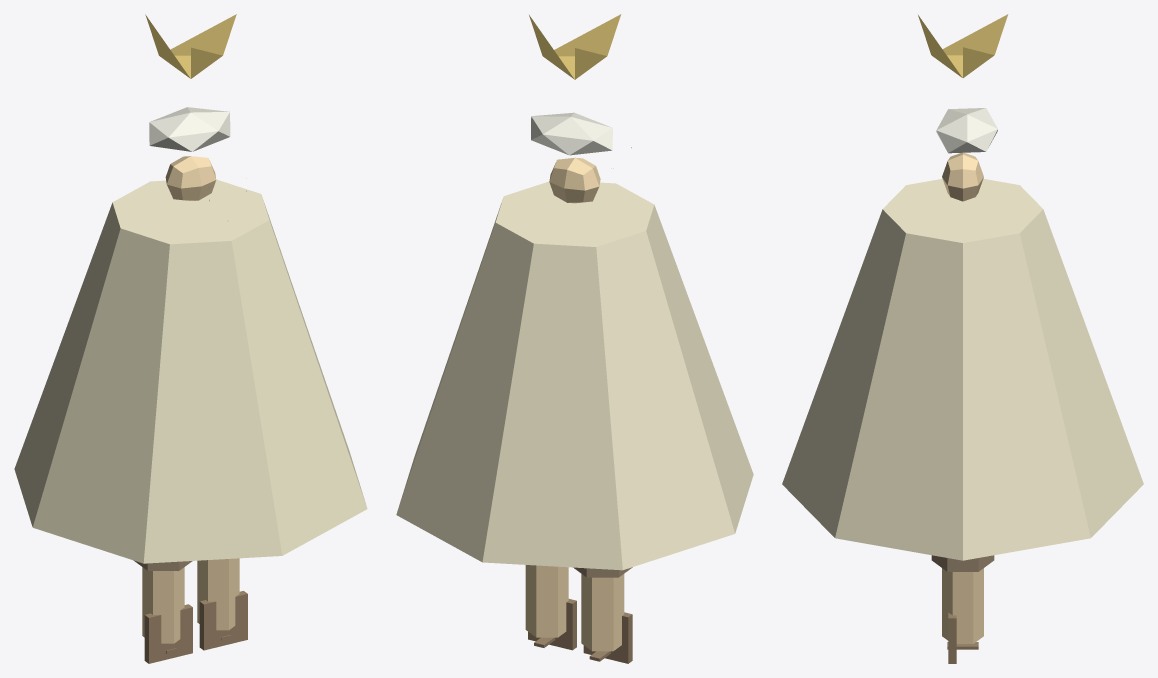
The model's file is Cloude check.glb.
3 views of the same model, side by side, from view 1: azimuth 30°, elevation 25°; view 2: azimuth 150°, elevation 25°; view 3: azimuth 270°, elevation 25° (orthographic). The views are drawn at different scales.
Parts seen in each view (by area): view 1: Poncho, Hair, LeftLeg, Crown, RightLeg, Head, LeftStrap, RightStrap; view 2: Poncho, LeftLeg, RightLeg, Hair, Crown, Head, LeftStrap, RightStrap; view 3: Poncho, RightLeg, Crown, Hair, Head, Pants.
Part boxes in pixels (x1,y1,x2,y2): Poncho: [14, 179, 367, 563]; Hair: [149, 107, 230, 151]; LeftLeg: [142, 567, 184, 643]; Crown: [145, 14, 236, 78]; RightLeg: [197, 558, 239, 630]; Head: [165, 156, 216, 200]; LeftStrap: [144, 604, 192, 663]; RightStrap: [199, 591, 247, 650]; Poncho: [396, 181, 753, 570]; LeftLeg: [581, 574, 624, 651]; RightLeg: [525, 565, 568, 637]; Hair: [531, 112, 612, 155]; Crown: [529, 14, 621, 79]; Head: [549, 157, 600, 203]; LeftStrap: [583, 612, 632, 663]; RightStrap: [528, 599, 576, 650]; Poncho: [782, 179, 1143, 560]; RightLeg: [942, 568, 983, 643]; Crown: [918, 14, 1008, 77]; Hair: [936, 108, 997, 153]; Head: [942, 152, 983, 201]; Pants: [931, 555, 994, 571].
Bounding box in the file's own units: 1.73 × 3.24 × 1.73.
